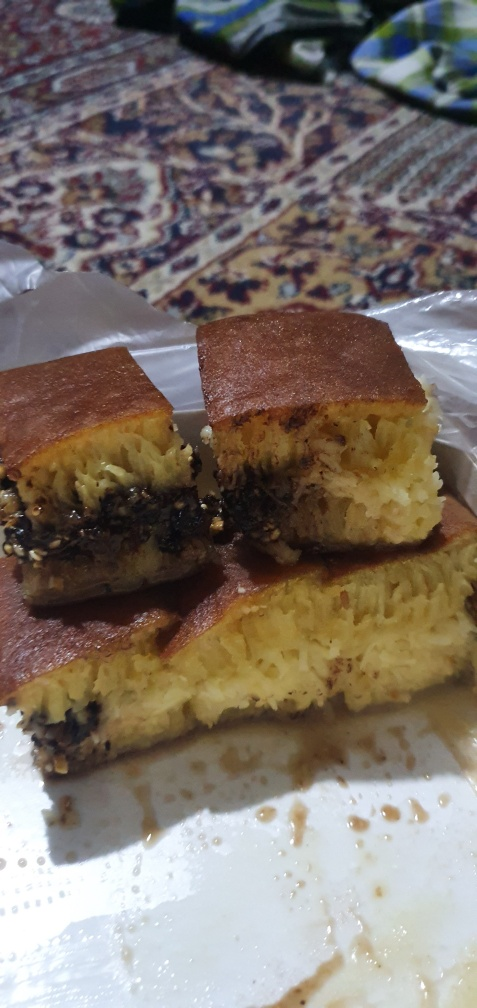martabak manis: (184, 303, 457, 542), (1, 348, 218, 571), (2, 614, 206, 775), (166, 571, 347, 750), (332, 546, 477, 732)
